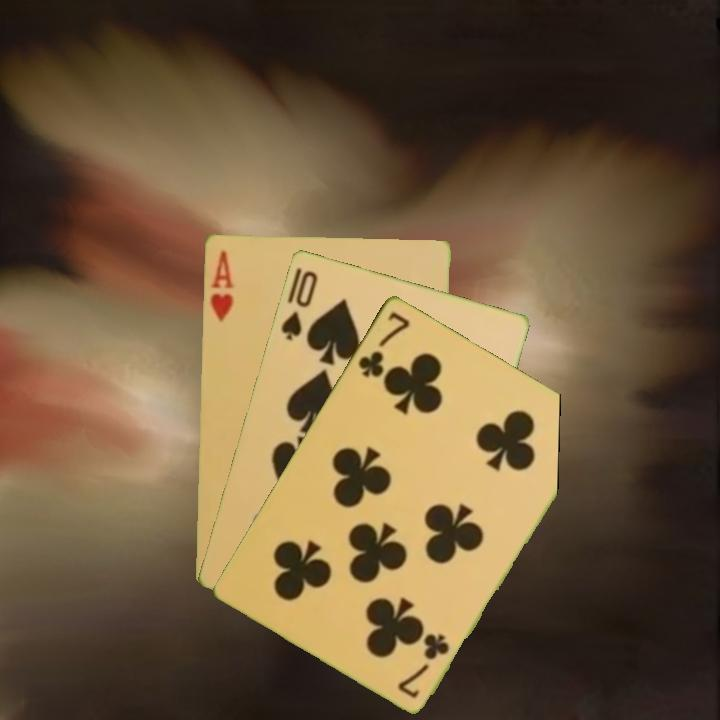10s: (277, 266, 320, 343)
7c: (354, 307, 413, 380), (396, 629, 452, 701)
Ah: (206, 246, 236, 324)
